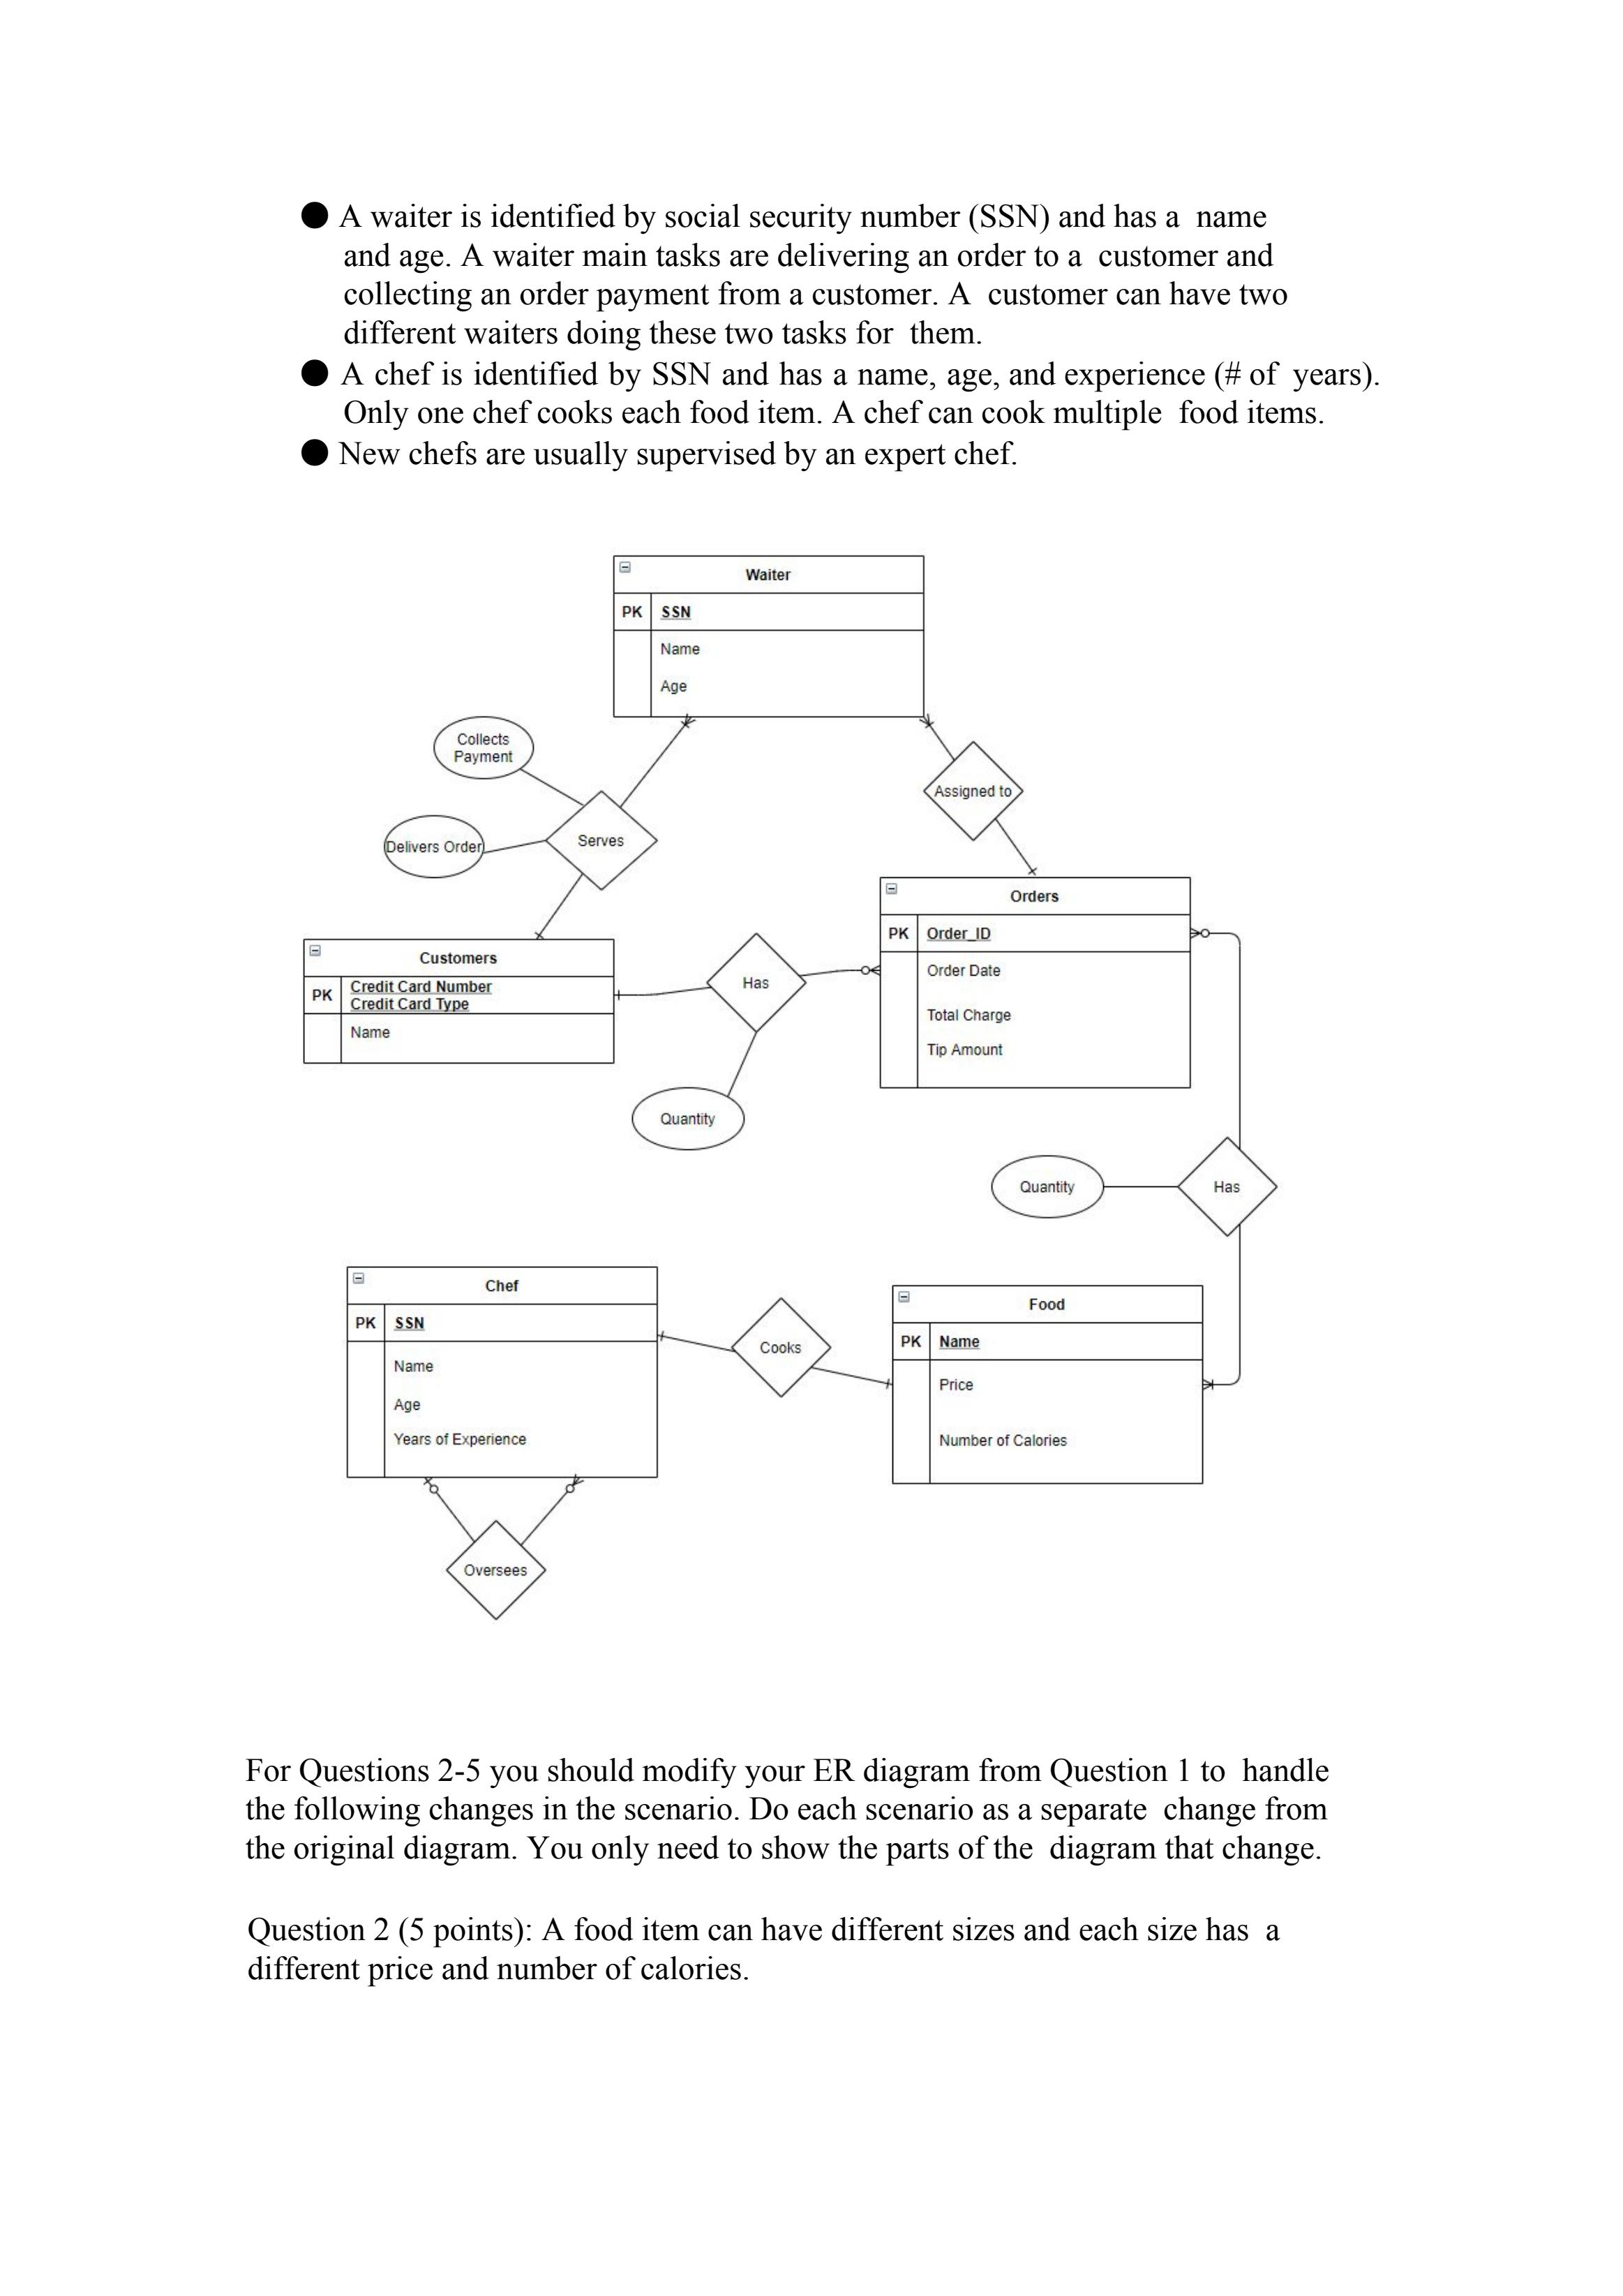Attribute: (991, 1154, 1105, 1219), (631, 1087, 747, 1151), (432, 715, 536, 782), (383, 815, 485, 878)
Entity: (346, 1265, 660, 1479), (880, 877, 1193, 1091), (891, 1284, 1205, 1484), (611, 553, 926, 718), (302, 938, 617, 1065)
Relationship: (546, 789, 659, 891), (444, 1520, 546, 1621), (922, 740, 1024, 840), (706, 931, 806, 1033), (732, 1296, 833, 1398), (1177, 1137, 1277, 1237)
